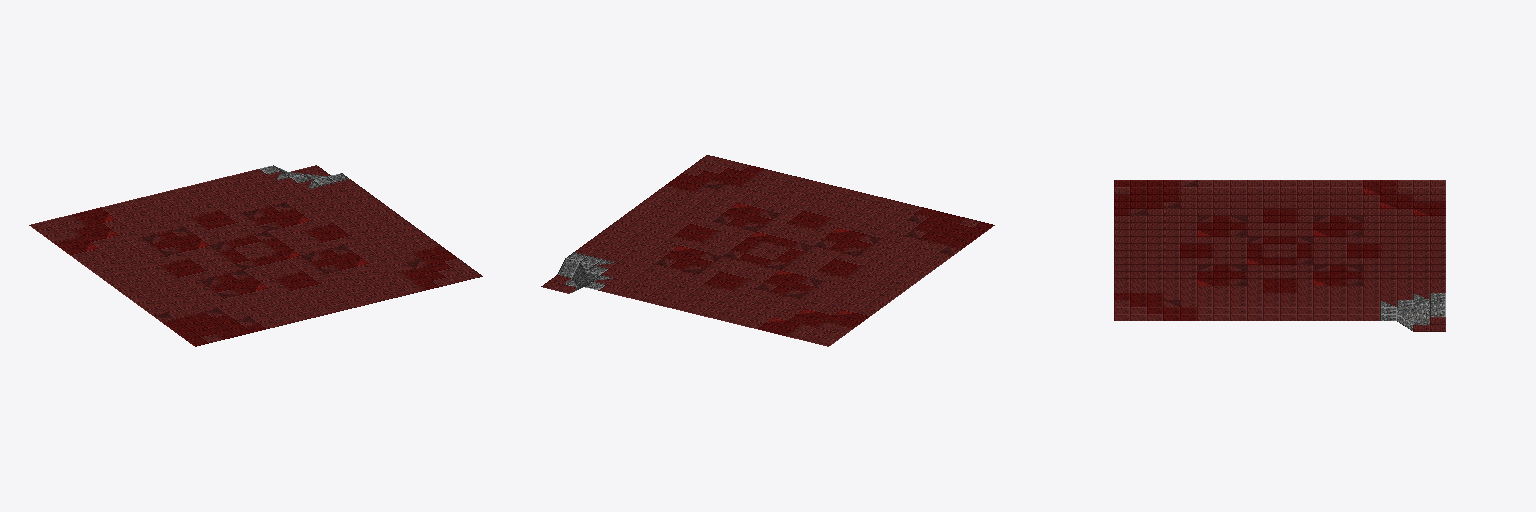
3 renders of one model, left to right at view 1: azimuth 30°, elevation 25°; view 2: azimuth 150°, elevation 25°; view 3: azimuth 270°, elevation 25°, orthographic.
Visible parts, largest first — view 1: FloorCentral_4; view 2: FloorCentral_4; view 3: FloorCentral_4.
Boxes of the visible parts, <box> form: FloorCentral_4: <box>29,165,482,346</box>; FloorCentral_4: <box>541,155,994,346</box>; FloorCentral_4: <box>1114,180,1445,331</box>.
Bounding box in the file's own units: 20 × 0.6907 × 20.
Materials: 11 (11 with a texture image).